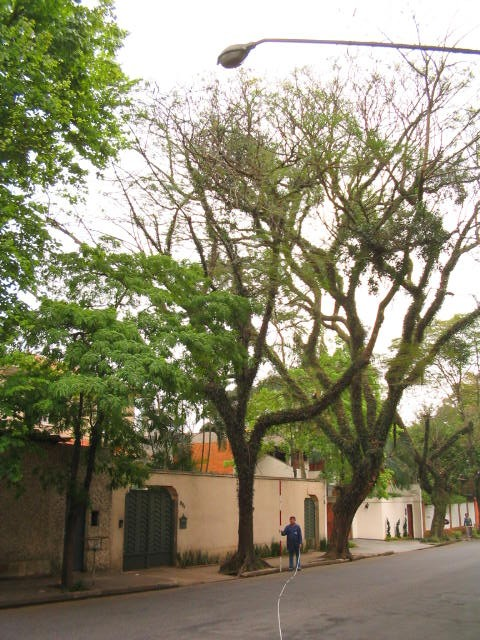crown: (4, 244, 248, 497)
stem: (225, 451, 267, 574), (319, 472, 378, 559), (51, 504, 86, 589)
stick: (273, 479, 287, 573)
tree: (107, 69, 410, 573), (268, 16, 480, 558), (1, 243, 251, 590)
